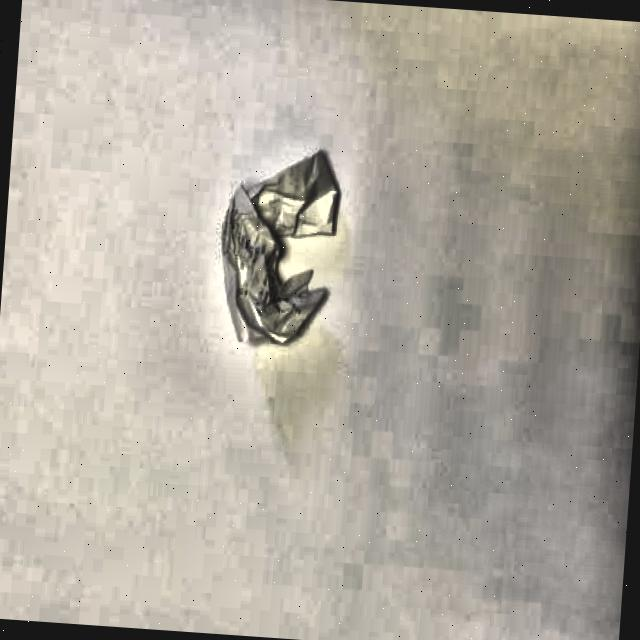paper: (210, 140, 346, 350)
